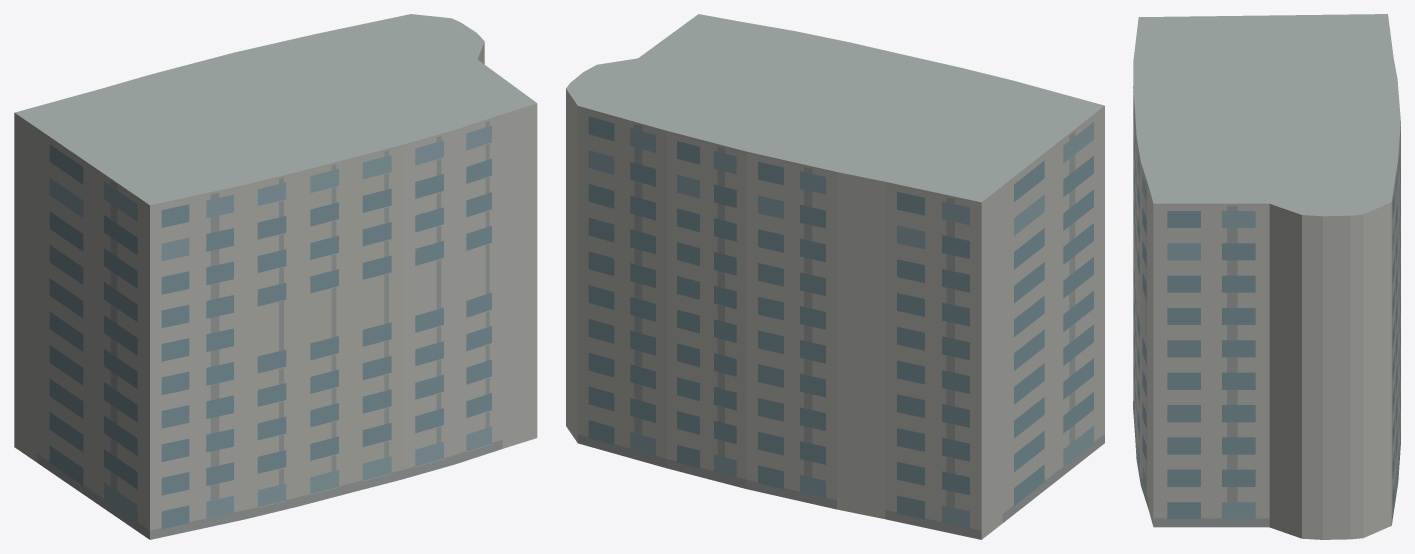
File: survey-upis-32517792.glb
3 renders of one model, left to right at view 1: azimuth 30°, elevation 25°; view 2: azimuth 150°, elevation 25°; view 3: azimuth 270°, elevation 25°, orthographic. The views are drawn at different scales.
Parts seen in each view (by area): view 1: survey-upis-32517792.tmp; view 2: survey-upis-32517792.tmp; view 3: survey-upis-32517792.tmp.
Part boxes in pixels (<box>): survey-upis-32517792.tmp: <box>14,14,537,539</box>; survey-upis-32517792.tmp: <box>566,14,1104,539</box>; survey-upis-32517792.tmp: <box>1133,14,1400,539</box>.
Bounding box in the file's own units: 48.35 × 36.08 × 27.05.
